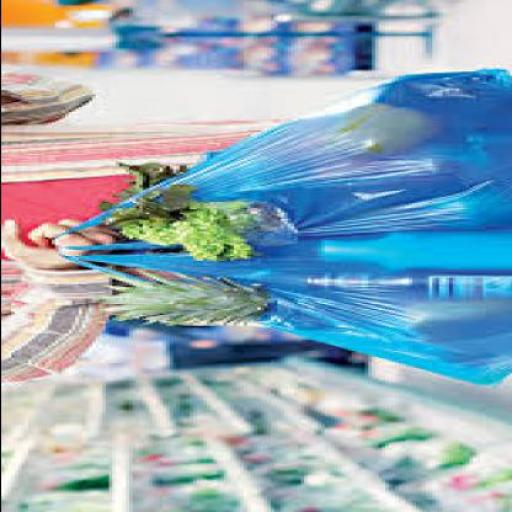biodegradable: (91, 166, 270, 267), (91, 274, 270, 328)
plastic: (44, 72, 509, 388), (47, 72, 509, 254), (44, 253, 509, 385)
